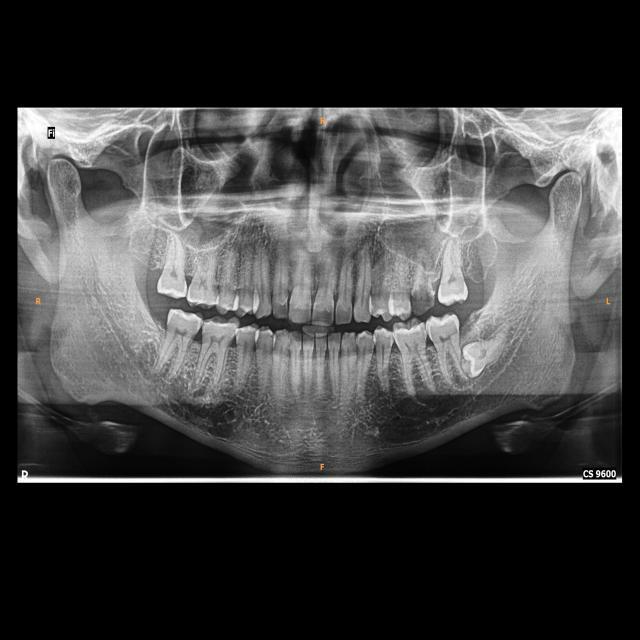dentin-curugu: (410, 285, 435, 314)
